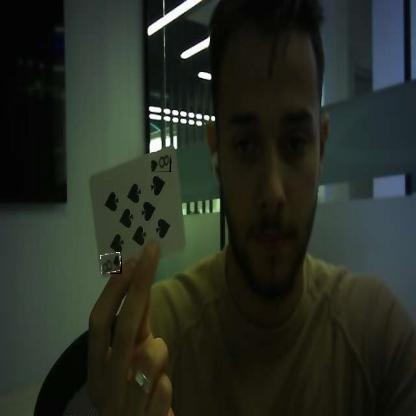8S: (101, 253, 122, 274), (152, 152, 172, 172)
